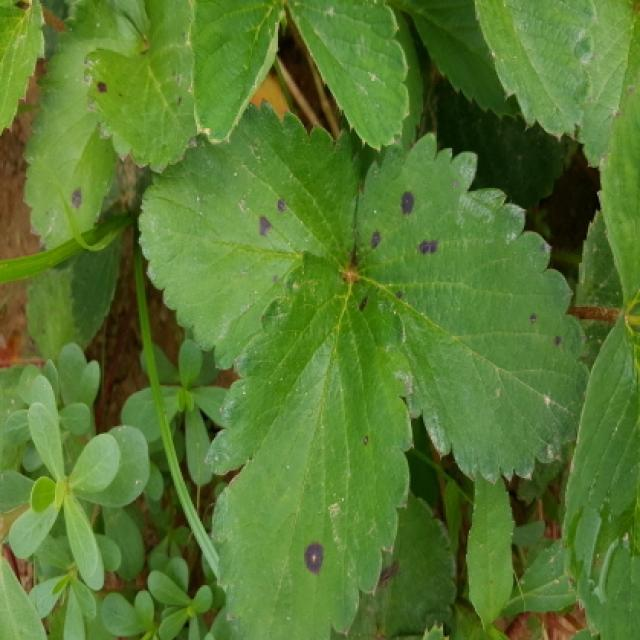Leaf Spot: (351, 132, 592, 486), (203, 252, 415, 638), (136, 95, 374, 371), (85, 0, 286, 176), (19, 0, 151, 251)
